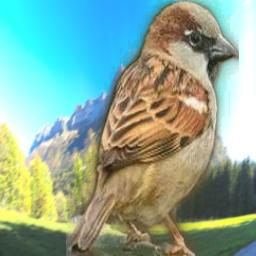Sparrow: (66, 0, 239, 256)
